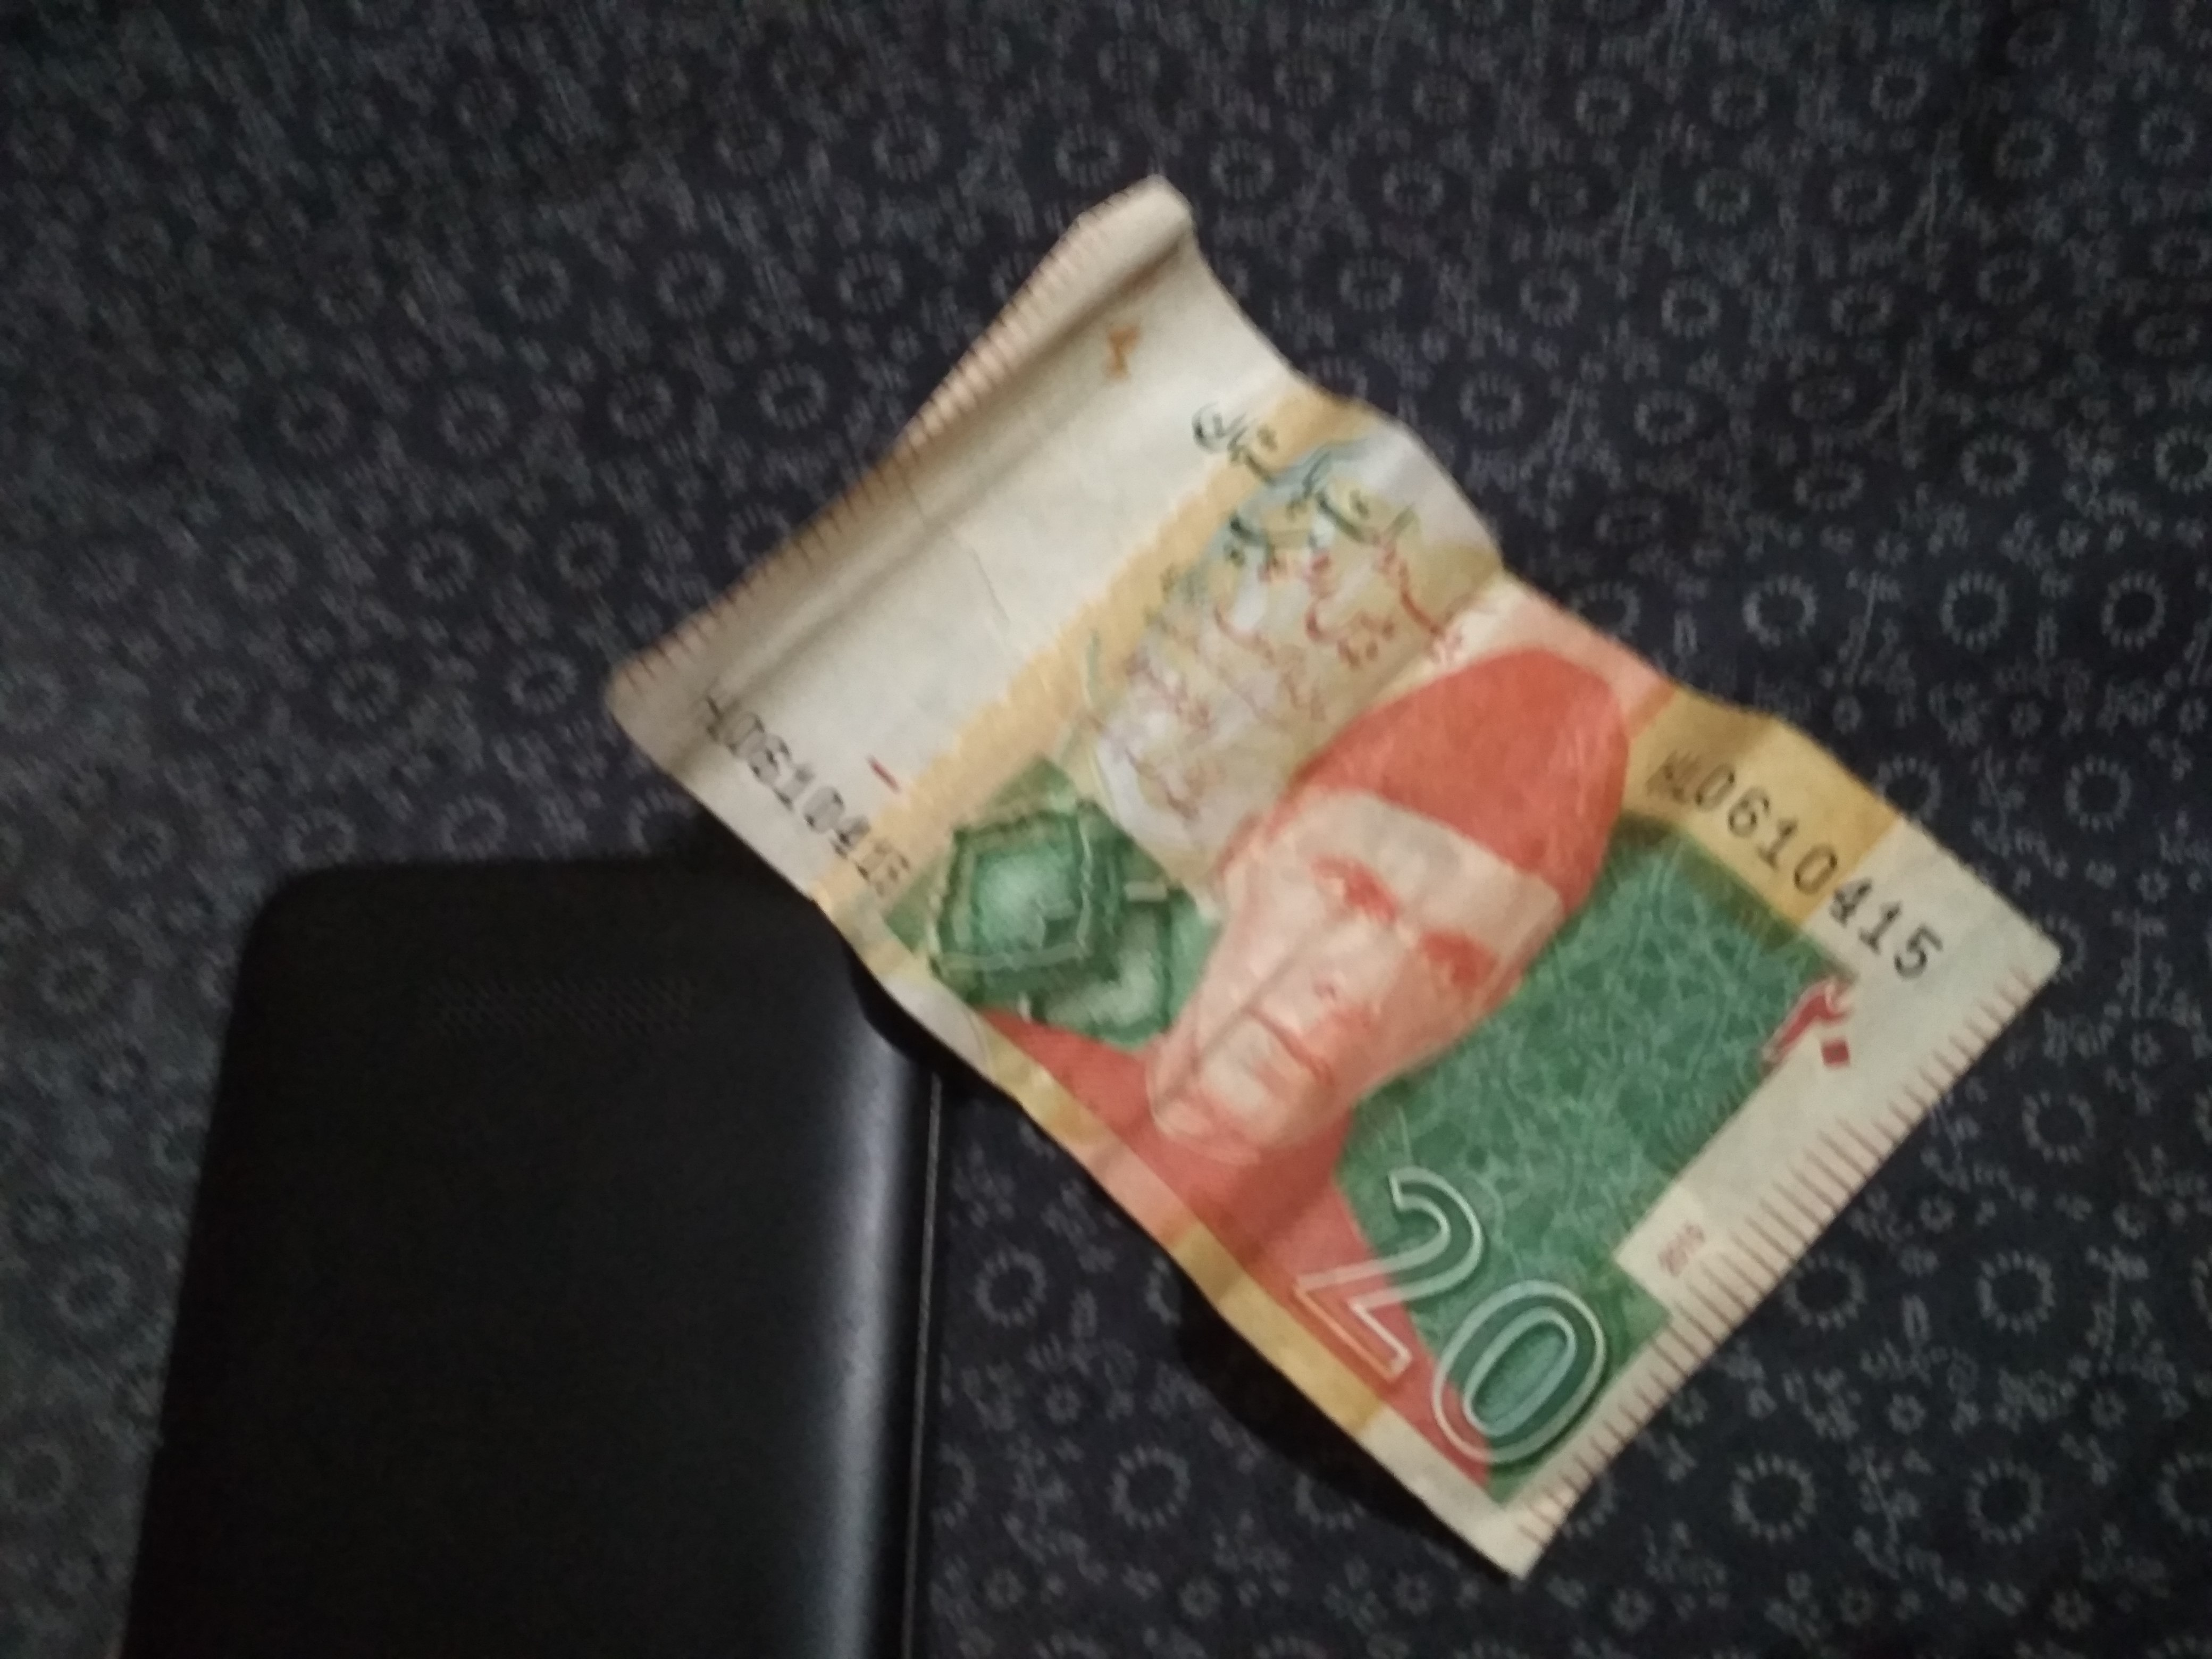20 rupee: (524, 159, 2083, 1574)
